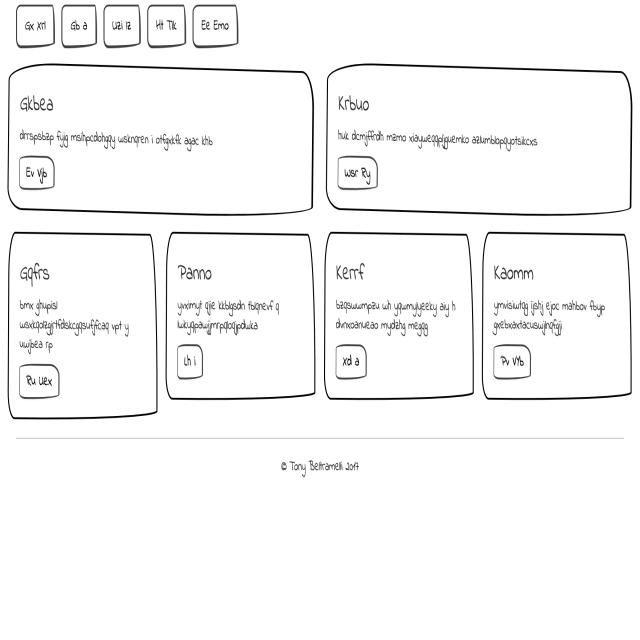Button: (335, 149, 383, 193), (15, 365, 60, 407), (173, 340, 208, 376), (17, 155, 56, 187), (496, 347, 535, 377), (336, 350, 365, 380)
Card: (0, 74, 311, 221), (329, 65, 628, 217), (7, 237, 157, 415), (486, 229, 631, 406), (166, 232, 312, 403), (324, 235, 470, 397)
Footer: (2, 434, 639, 640)
Heading 6: (330, 251, 382, 292), (169, 254, 222, 289), (19, 81, 64, 119), (329, 85, 377, 115), (18, 258, 64, 286), (493, 260, 545, 284)
Navigation Bar: (2, 6, 241, 54)
Paragraph: (11, 118, 229, 152), (15, 296, 138, 354), (332, 121, 552, 147), (329, 299, 462, 340), (491, 291, 611, 336), (176, 298, 294, 342)
